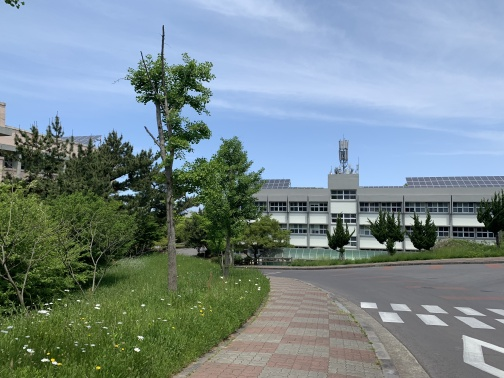College Of Education: (1, 104, 104, 195)
